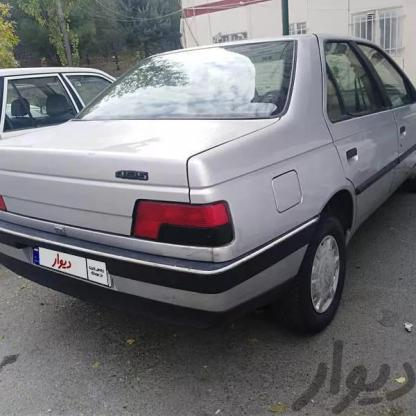Car: (0, 0, 416, 326), (0, 44, 110, 138)
